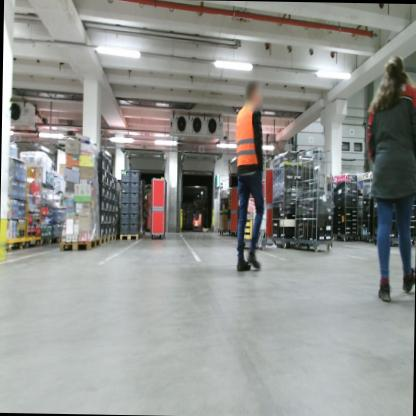pallet: (57, 234, 98, 253), (118, 232, 141, 242), (108, 232, 117, 245), (100, 234, 109, 247)
pallet_truck: (189, 198, 205, 230)
